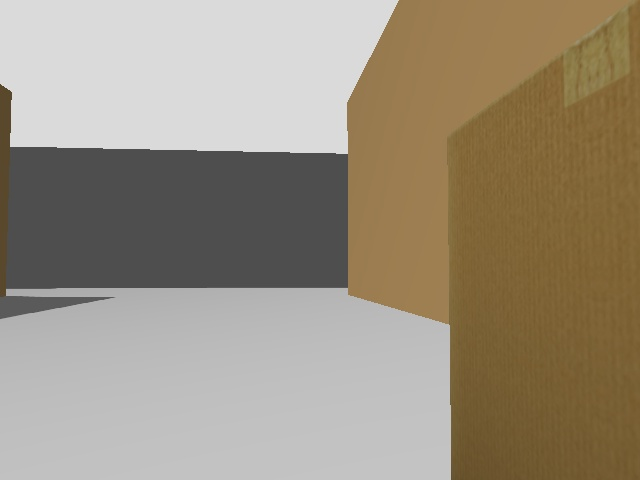package: (445, 9, 633, 480)
